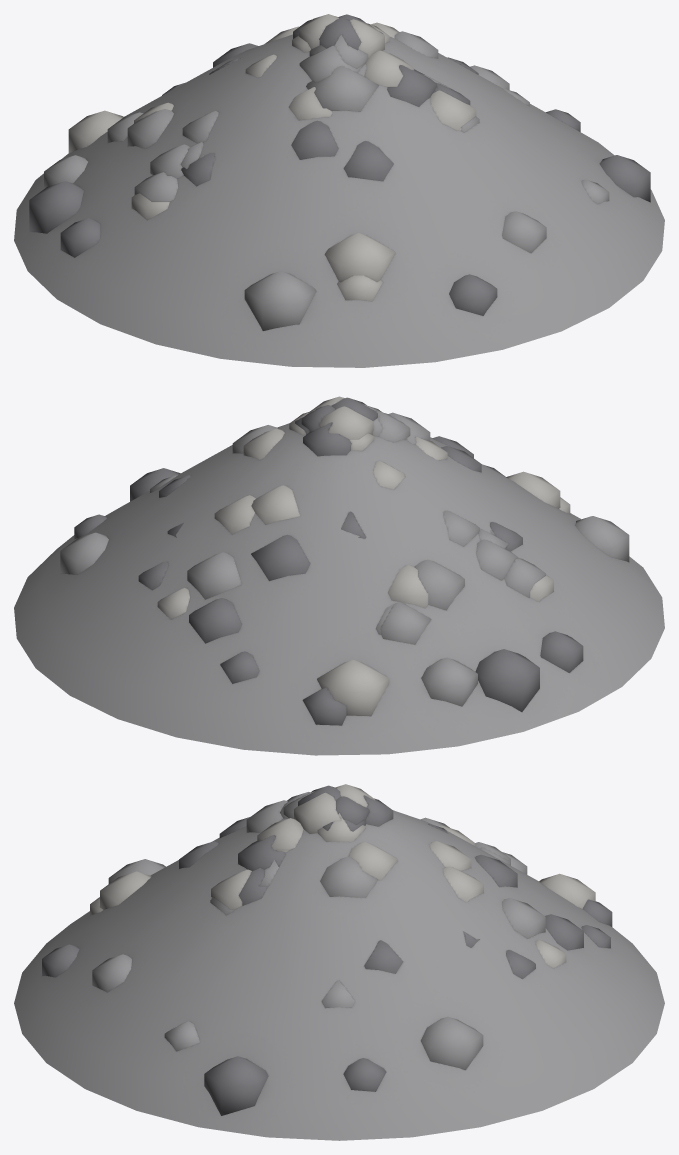
Rendered from gravel-pile.fbx.
3 renders of one model, top to bottom at view 1: azimuth 30°, elevation 25°; view 2: azimuth 150°, elevation 25°; view 3: azimuth 270°, elevation 25°, orthographic.
Parts seen in each view (by area): view 1: gravel-pile; view 2: gravel-pile; view 3: gravel-pile.
Part boxes in pixels (x1,y1,x2,y2): gravel-pile: (14,14,664,367); gravel-pile: (14,396,664,755); gravel-pile: (14,784,664,1140).
Size of the model in its own units: 1200 by 467 by 1200.
Materials: 1 (1 with a texture image).
